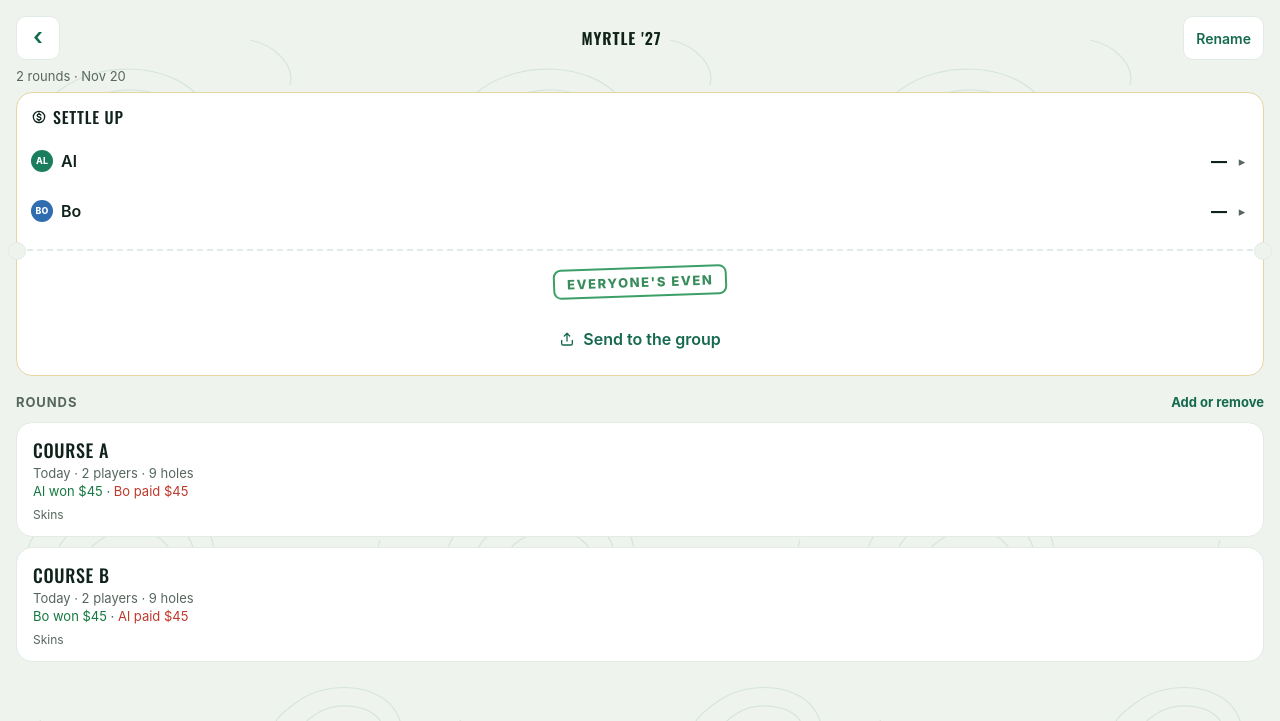
Trip screen › renames the trip on every round
Click the button "Rename". click: (1224, 38)
box: [1183,16,1264,60]
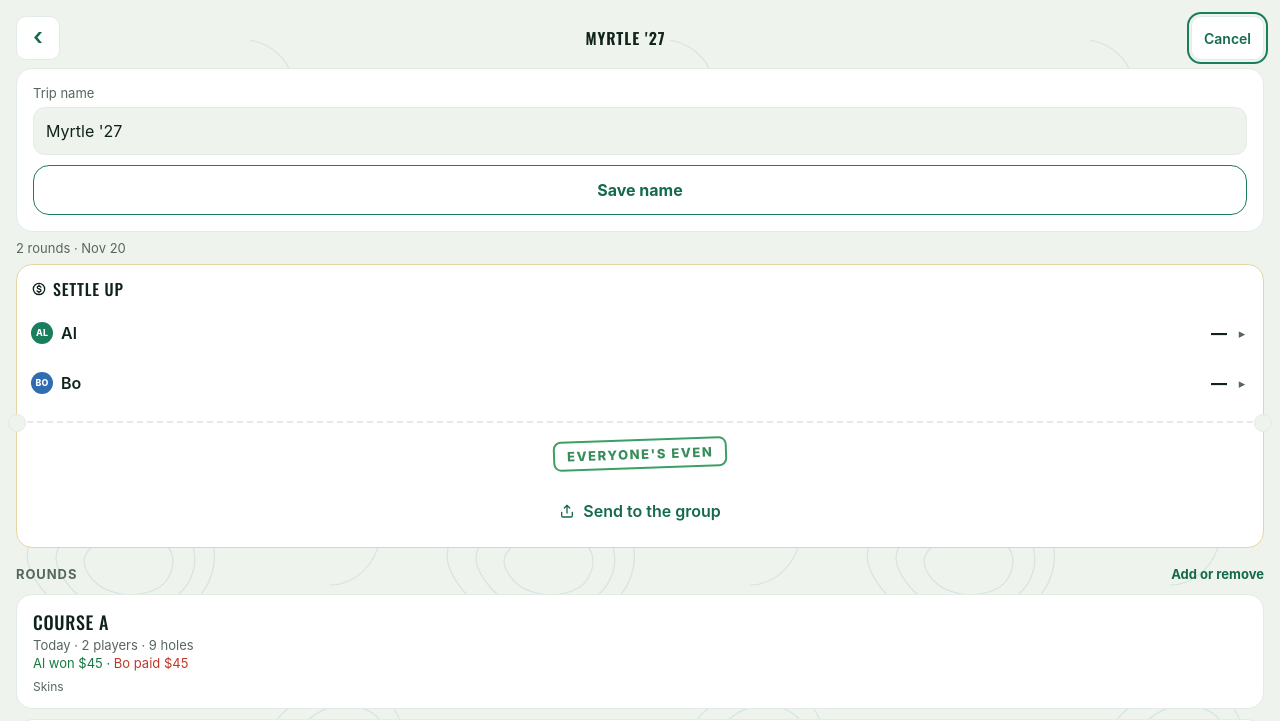
Replace the text in the field labelled "Trip name" with "Myrtle Beach". click: (640, 131)
box: [33,107,1247,155]
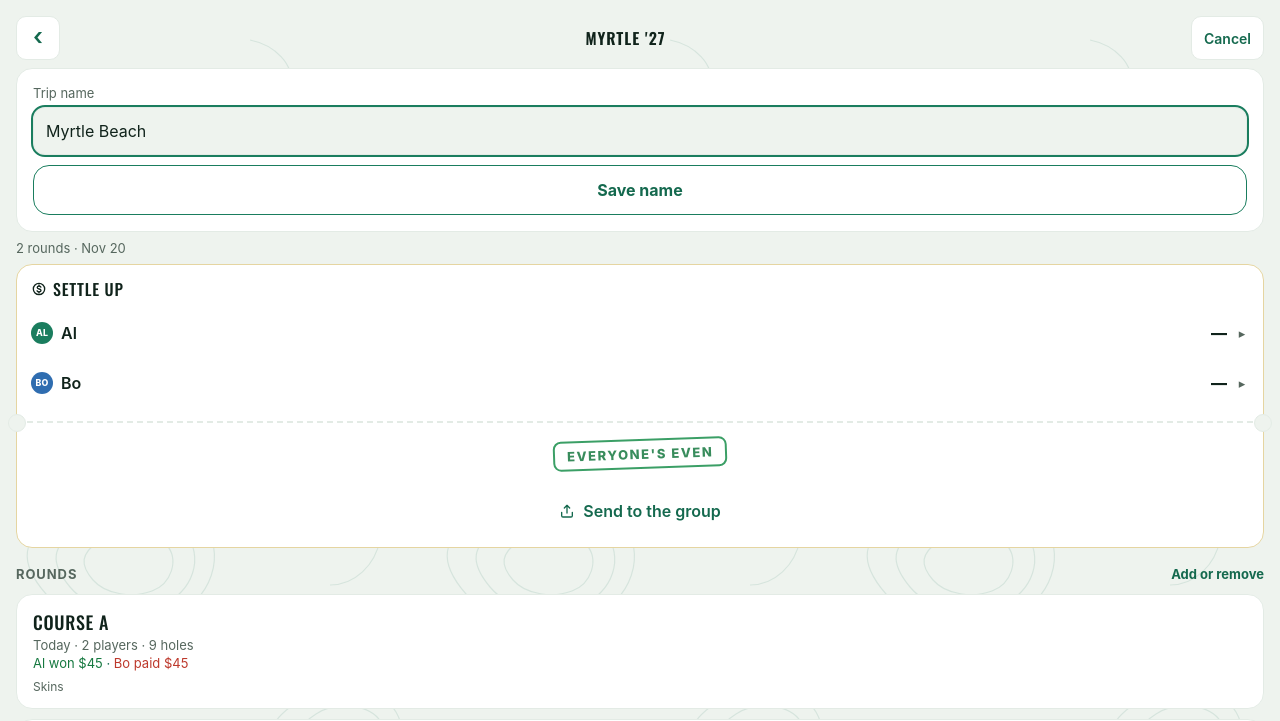
Click the button "Save name". click: (640, 190)
box: [33,165,1247,215]
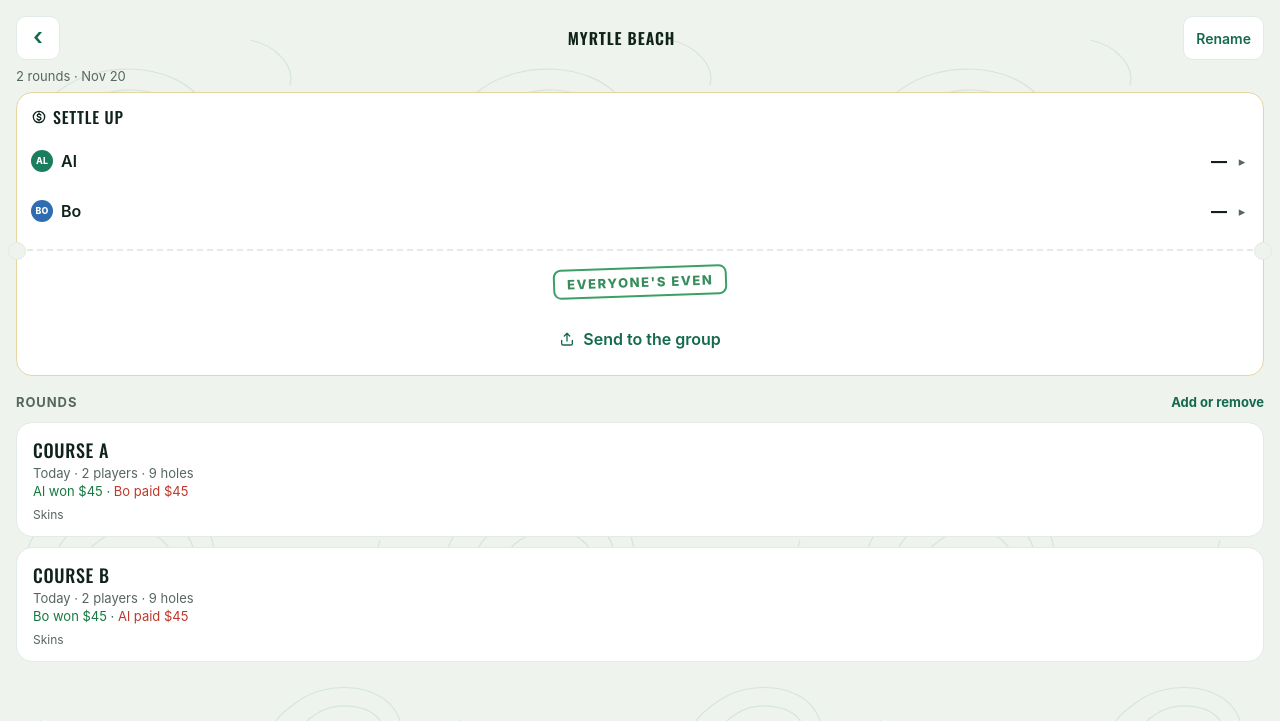
Check: the heading "Myrtle Beach" is shown, box [568,26,675,50]
